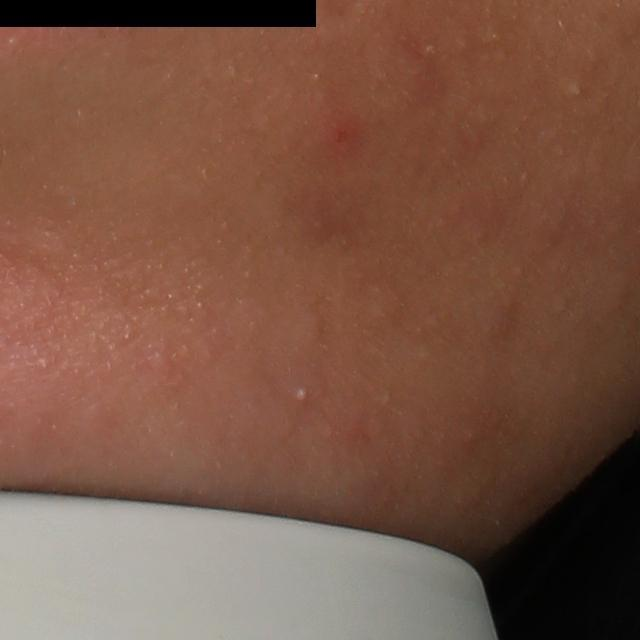comedo: (565, 77, 586, 102), (295, 385, 309, 404)
